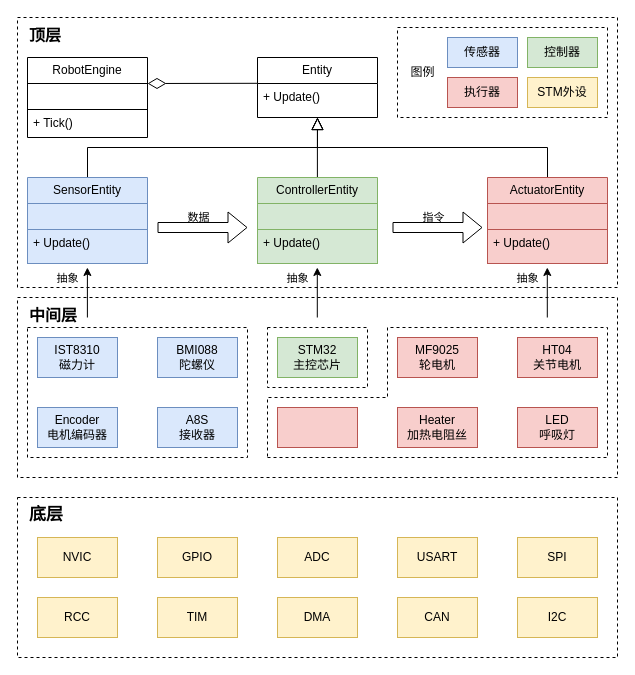
This 635x675 diagram has some shape labels left out. The centre of each missing label's shape, as x and y in pixels:
"Buzzer 蜂鸣器" belongs at (x=317, y=427).
"执行控制指令" belongs at (x=547, y=216).
"按顺序驱动框架运行" belongs at (x=87, y=96).
"获取环境数据" belongs at (x=87, y=216).
"计算控制指令" belongs at (x=317, y=216).
